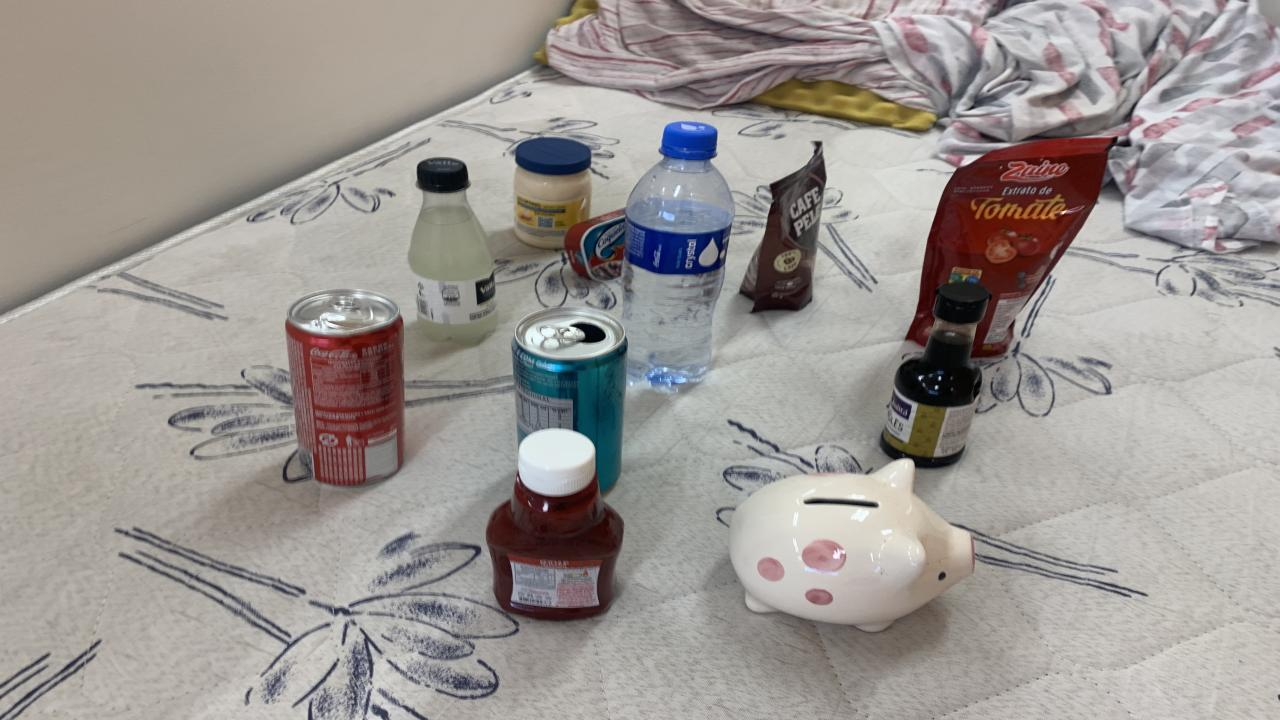Coffee-Pantry_Items: (740, 141, 825, 311)
Coke-Drinks: (285, 289, 405, 486)
English_Sauce-Pantry_Items: (882, 281, 992, 467)
Ketchup-Pantry_Items: (488, 428, 622, 621)
Mayonnaise-Pantry_Items: (515, 137, 592, 249)
Pig_Safe-Miscellaneous: (730, 458, 975, 632)
Soda-Drinks: (408, 158, 498, 343)
Tea-Drinks: (512, 308, 628, 491)
Tomato_Sauce-Pantry_Items: (905, 137, 1115, 356)
Tuna_Can-Pantry_Items: (565, 208, 625, 281)
Water_Bottle-Drinks: (622, 122, 735, 392)
